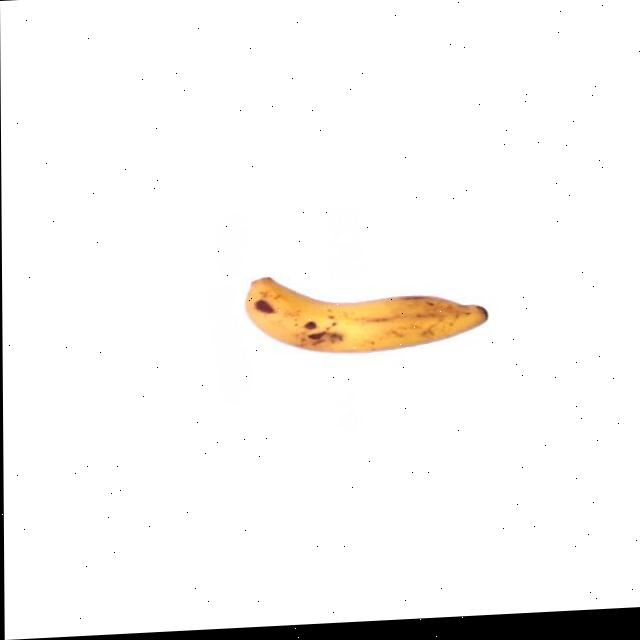banana: (243, 261, 492, 363)
